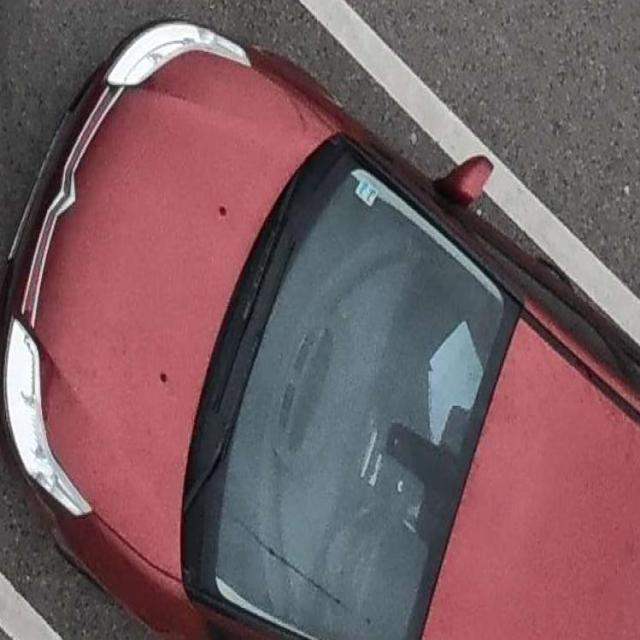Car: (29, 31, 614, 624)
